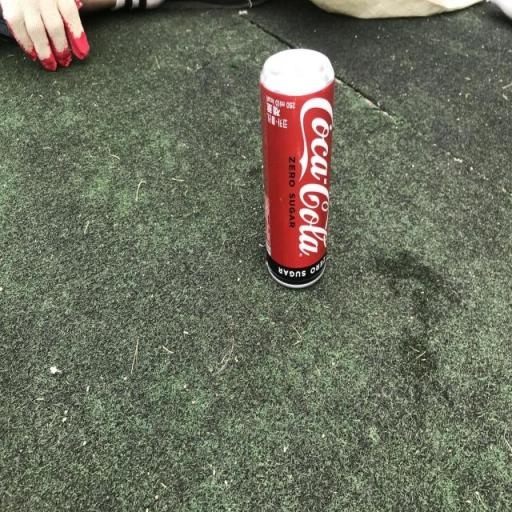metal: (248, 30, 348, 302)
